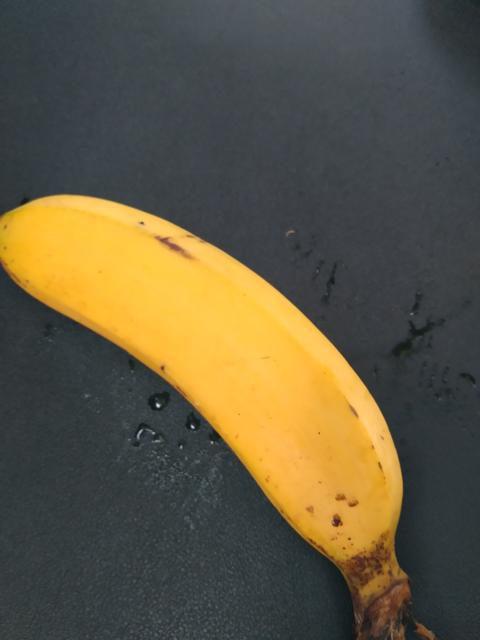freshripe: (8, 186, 413, 581)
